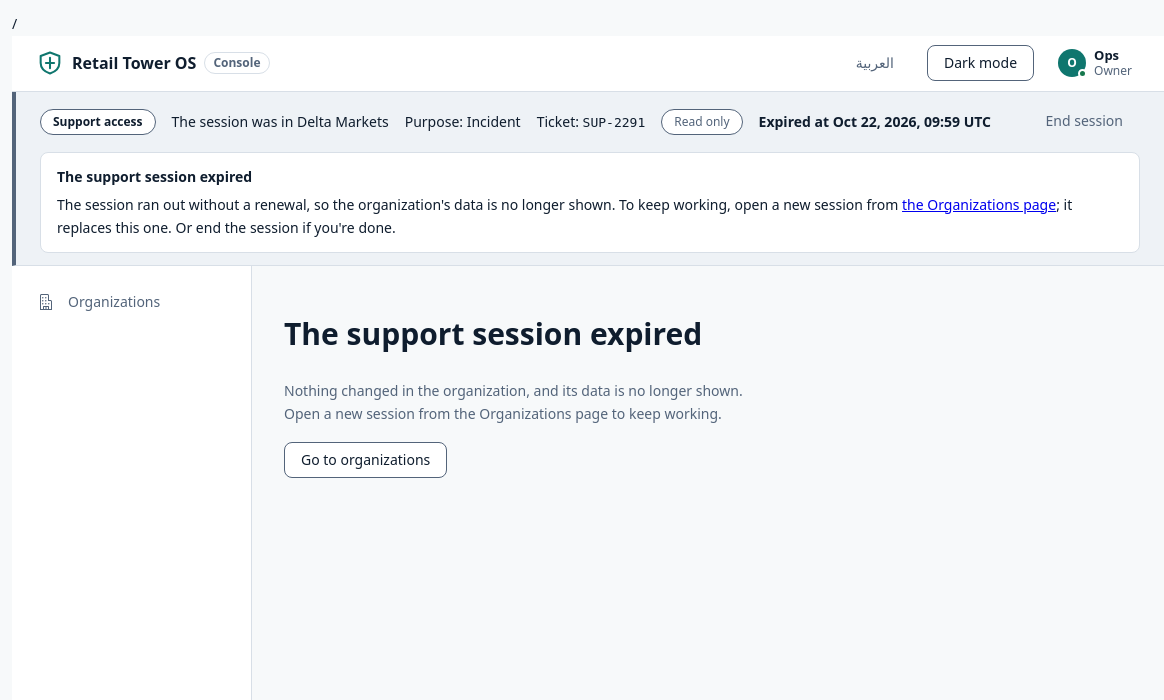
Scenario: bar states › expired elsewhere: the notice links to the directory by its real name
Check: the text "it replaces this one" is shown, box left=57, top=195, right=1072, bottom=237
Click the link "the Organizations page".
click(979, 204)  # box left=902, top=195, right=1056, bottom=214
Wait 50 ms
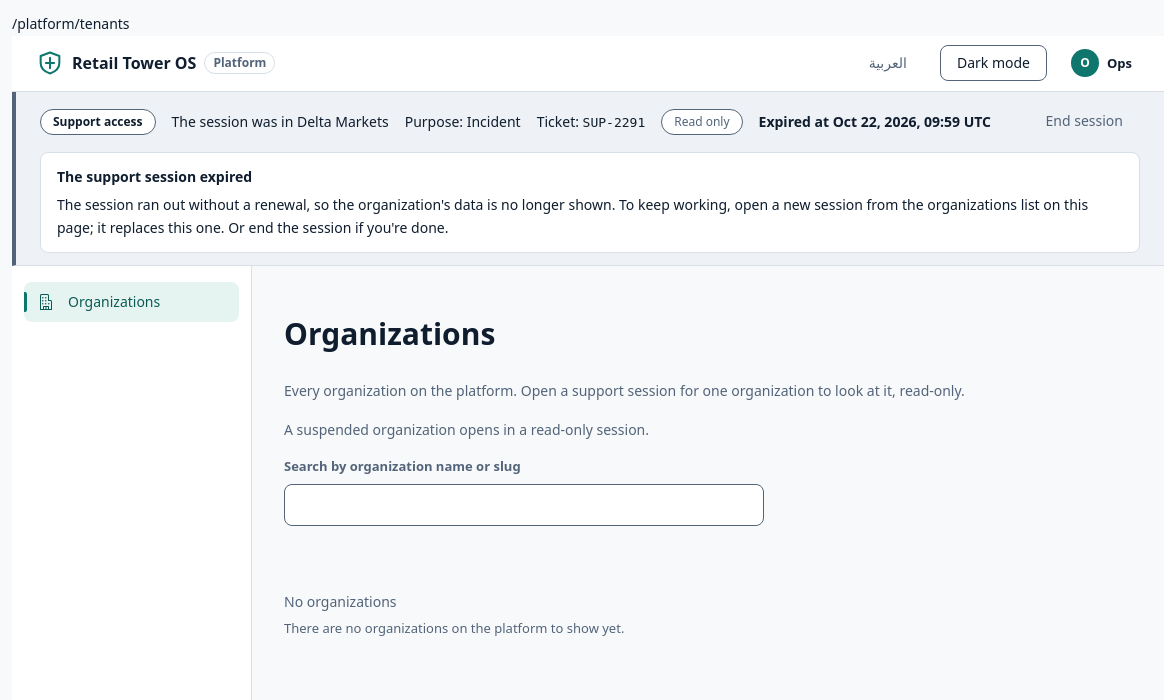
Check: the text with test id "where" reads "/platform/tenants", box left=12, top=14, right=130, bottom=33
